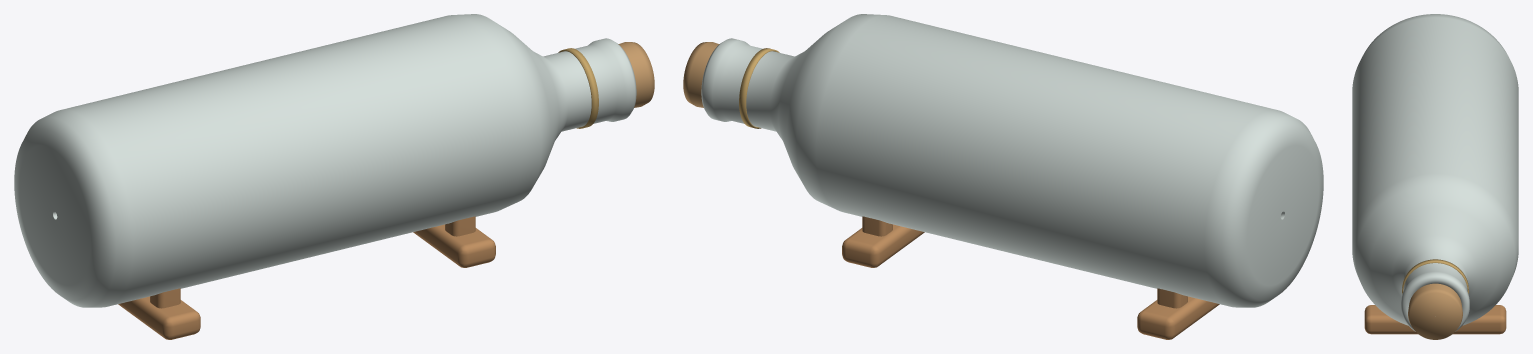
File: sailboat-bottle-v3.fbx
The picture shows the model from 3 angles, left to right: view 1: azimuth 30°, elevation 25°; view 2: azimuth 150°, elevation 25°; view 3: azimuth 270°, elevation 25°; orthographic projection. The views are drawn at different scales.
Parts seen in each view (by area): view 1: Bottle | thick transparent glass, Cradle | timber foot.001, Cradle | timber foot, Bottle | cork stopper, Bottle | neck brass collar; view 2: Bottle | thick transparent glass, Cradle | timber foot.001, Cradle | timber foot, Bottle | cork stopper, Bottle | neck brass collar; view 3: Bottle | thick transparent glass, Bottle | cork stopper, Cradle | timber foot.001, Bottle | neck brass collar.
Part boxes in pixels (x1,y1,x2,y2): Bottle | thick transparent glass: (14, 14, 636, 307); Cradle | timber foot.001: (413, 224, 495, 267); Cradle | timber foot: (118, 296, 200, 339); Bottle | cork stopper: (618, 42, 654, 107); Bottle | neck brass collar: (558, 48, 598, 128); Bottle | thick transparent glass: (701, 14, 1323, 307); Cradle | timber foot.001: (842, 224, 924, 267); Cradle | timber foot: (1137, 296, 1219, 339); Bottle | cork stopper: (683, 42, 719, 107); Bottle | neck brass collar: (739, 48, 779, 128); Bottle | thick transparent glass: (1352, 14, 1518, 331); Bottle | cork stopper: (1408, 283, 1462, 339); Cradle | timber foot.001: (1364, 305, 1506, 334); Bottle | neck brass collar: (1402, 259, 1468, 293).
Size of the model in its own units: 188 by 63.2 by 56.4.
